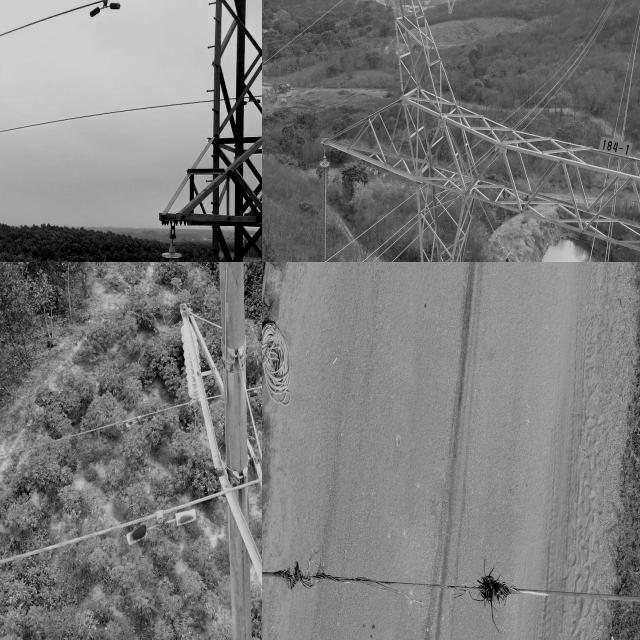杆塔: (325, 0, 640, 262), (149, 0, 262, 262)
正常电缆: (0, 472, 262, 573), (0, 381, 262, 470), (262, 0, 357, 76), (342, 189, 412, 255), (354, 215, 413, 262), (386, 240, 414, 262)
正常绝缘子: (313, 147, 334, 262), (180, 322, 204, 399)
电缆破损: (267, 544, 523, 632)
